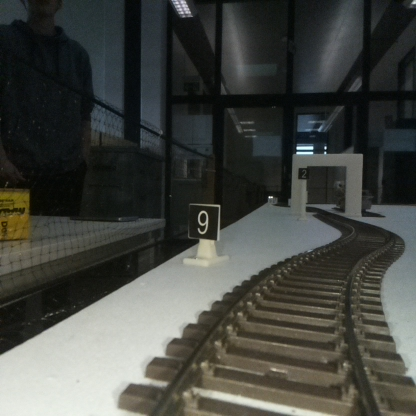black-info-2: (298, 167, 310, 220)
black-stop-9: (189, 203, 218, 262)
